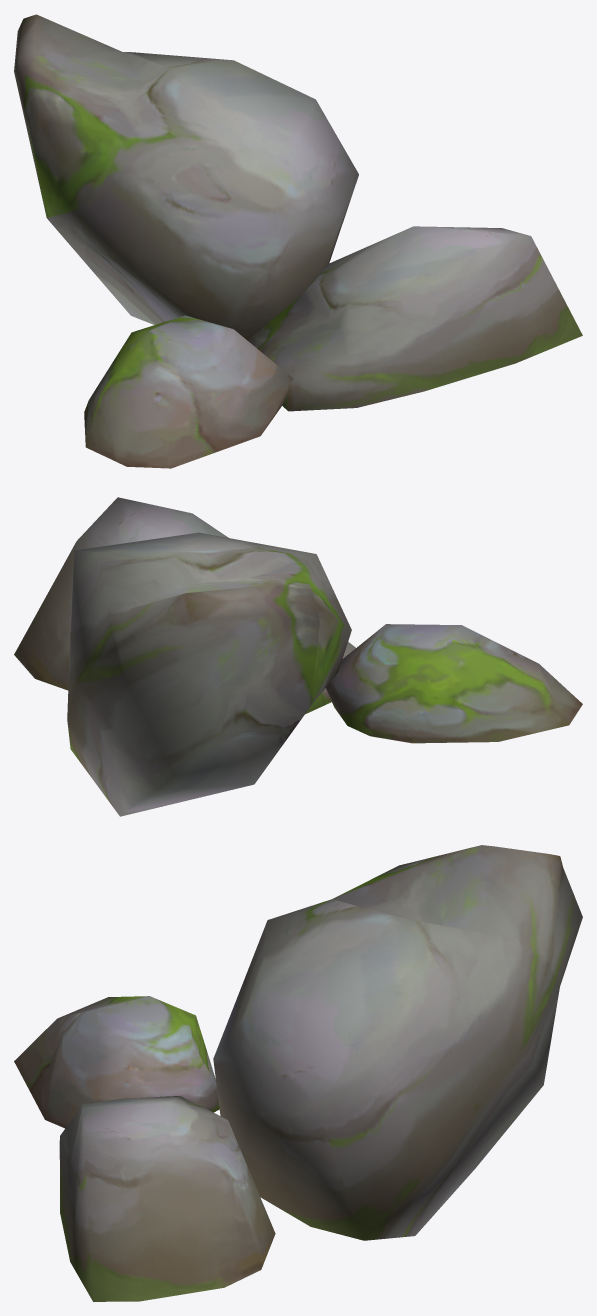
File: Map_05_stone02.FBX
3 renders of one model, top to bottom at view 1: azimuth 30°, elevation 25°; view 2: azimuth 150°, elevation 25°; view 3: azimuth 270°, elevation 25°, orthographic. The views are drawn at different scales.
Parts seen in each view (by area): view 1: Map_05_stone02; view 2: Map_05_stone02; view 3: Map_05_stone02.
Boxes of the visible parts, bbox=[...] form: Map_05_stone02: bbox=[14, 14, 582, 468]; Map_05_stone02: bbox=[14, 497, 582, 816]; Map_05_stone02: bbox=[14, 845, 582, 1301].
Bounding box in the file's own units: 221 × 124 × 203.
